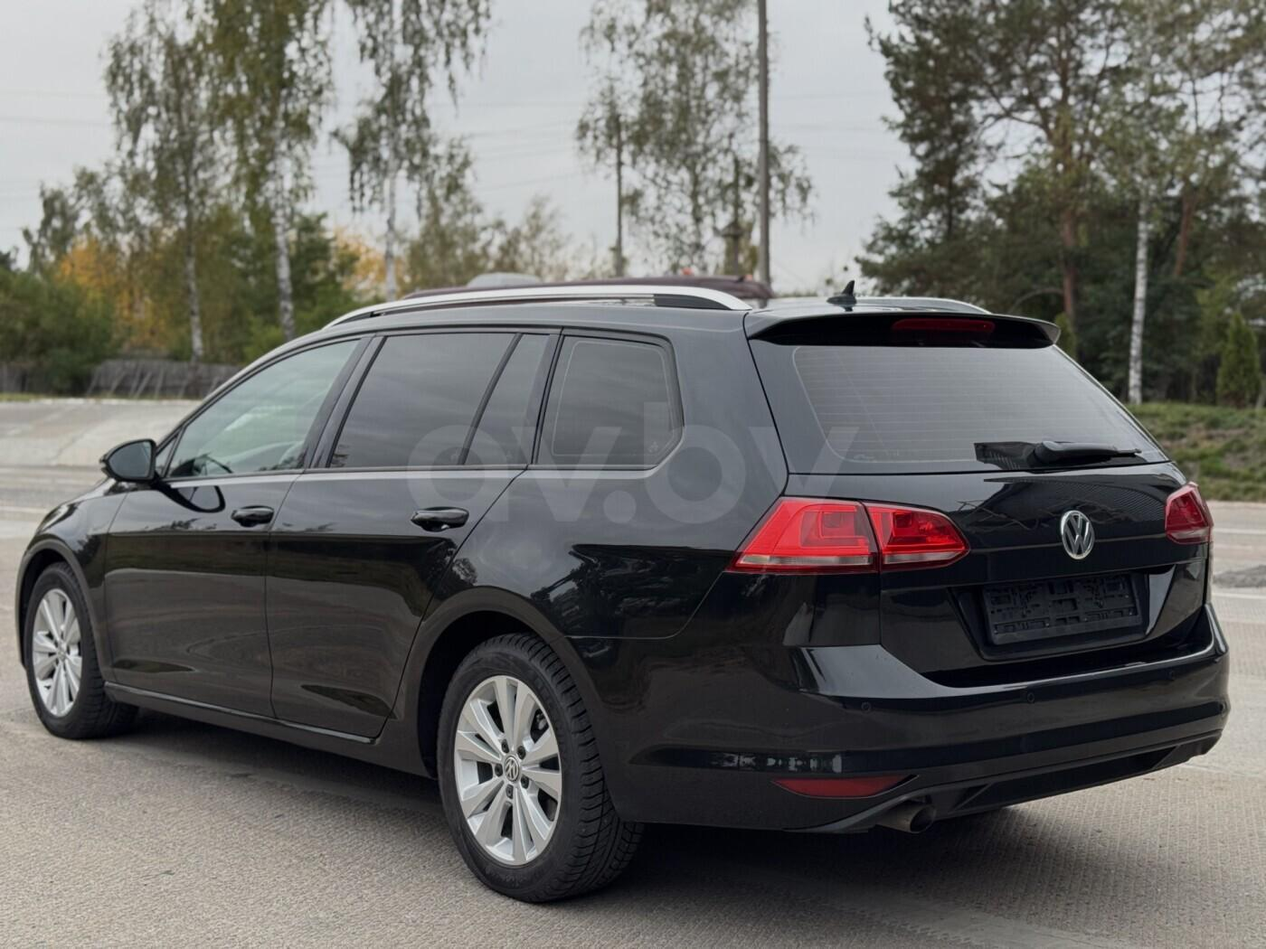Golf_2012-2017: (11, 277, 1251, 906)
